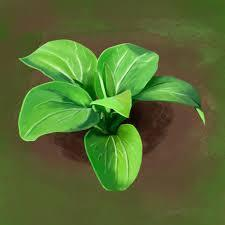Healthy-Pechay: (16, 40, 207, 192)
